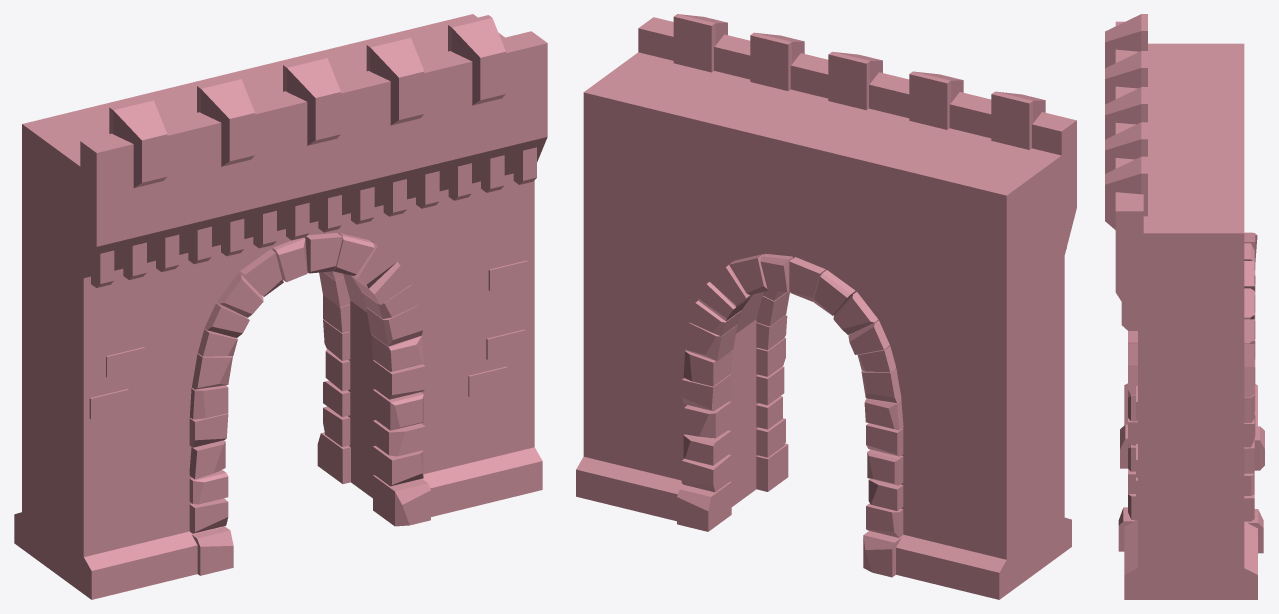
File: Mega_Asset_s_Pack_Cube_191.FBX
The picture shows the model from 3 angles, left to right: view 1: azimuth 30°, elevation 25°; view 2: azimuth 150°, elevation 25°; view 3: azimuth 270°, elevation 25°; orthographic projection. The views are drawn at different scales.
Parts seen in each view (by area): view 1: Mega_Asset_s_Pack_Cube_191; view 2: Mega_Asset_s_Pack_Cube_191; view 3: Mega_Asset_s_Pack_Cube_191.
Part boxes in pixels (x1,y1,x2,y2): Mega_Asset_s_Pack_Cube_191: [14, 14, 547, 599]; Mega_Asset_s_Pack_Cube_191: [576, 14, 1076, 599]; Mega_Asset_s_Pack_Cube_191: [1105, 14, 1264, 599].
Size of what is drawn, in the model's own units: 1688 by 600 by 1698.
